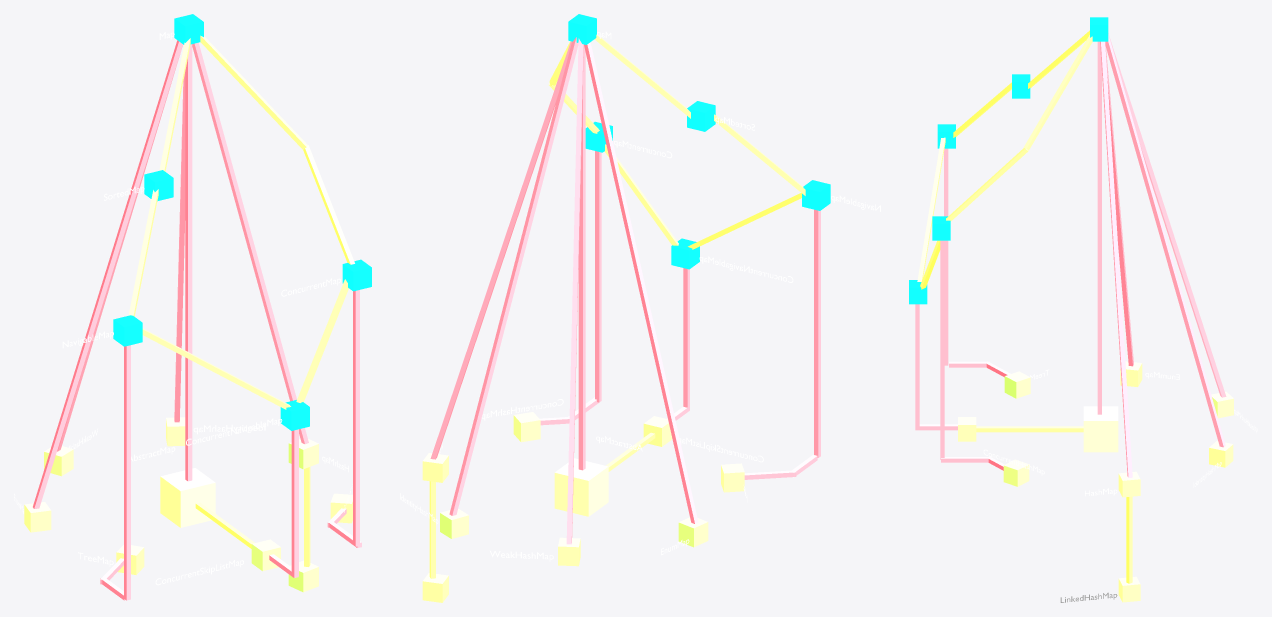
Rendered from MapHierarchy.glb.
The picture shows the model from 3 angles, left to right: view 1: azimuth 30°, elevation 25°; view 2: azimuth 150°, elevation 25°; view 3: azimuth 270°, elevation 25°; orthographic projection. The views are drawn at different scales.
Parts seen in each view (by area): view 1: Cube.122, Cube.054, Cube.125, AbstractMap-Cube.002, Cube.124, Cube.055, Cube.121, Cube.126, Cube.117, Cube.119, Cube.120, Cube.118 (+18 smaller); view 2: Cube.122, Cube.124, Cube.123, Cube.054, Cube.125, AbstractMap-Cube.002, Cube.055, Cube.121, Cube.126, Cube.059, Cube.120, Hashtable-Cube.003 (+13 smaller); view 3: Cube.124, Cube.125, Cube.123, Cube.054, AbstractMap-Cube.002, Cube.122, Cube.055, Cube.121, Cube.117, Cube.119, Cube.058, Cube.118 (+10 smaller).
Boxes of the visible parts, x1,y1,x2,y2 form: Cube.122: [33, 40, 182, 508]; Cube.054: [185, 44, 192, 481]; Cube.125: [192, 42, 308, 444]; AbstractMap-Cube.002: [160, 468, 215, 527]; Cube.124: [174, 72, 185, 422]; Cube.055: [353, 290, 359, 546]; Cube.121: [124, 345, 130, 600]; Cube.126: [291, 429, 298, 577]; Cube.117: [200, 35, 307, 149]; Cube.119: [142, 328, 290, 409]; Cube.120: [296, 279, 348, 402]; Cube.118: [303, 145, 354, 264]; Cube.122: [584, 42, 698, 523]; Cube.124: [449, 37, 578, 515]; Cube.123: [566, 38, 583, 544]; Cube.054: [578, 44, 585, 470]; Cube.125: [430, 41, 571, 459]; AbstractMap-Cube.002: [554, 458, 608, 516]; Cube.055: [595, 151, 601, 402]; Cube.121: [814, 209, 820, 457]; Cube.126: [683, 268, 689, 409]; Cube.059: [594, 34, 690, 118]; Cube.120: [604, 144, 678, 245]; Hashtable-Cube.003: [678, 517, 708, 547]; Cube.124: [1105, 34, 1225, 447]; Cube.125: [1100, 41, 1132, 477]; Cube.123: [1108, 33, 1226, 397]; Cube.054: [1097, 41, 1101, 414]; AbstractMap-Cube.002: [1083, 406, 1118, 452]; Cube.122: [1105, 46, 1133, 366]; Cube.055: [940, 240, 944, 459]; Cube.121: [944, 148, 948, 365]; Cube.117: [1023, 35, 1092, 150]; Cube.119: [917, 137, 945, 281]; Cube.058: [976, 426, 1083, 432]; Cube.118: [946, 148, 1028, 221].
Bounding box in the file's own units: 144 × 225 × 137.
